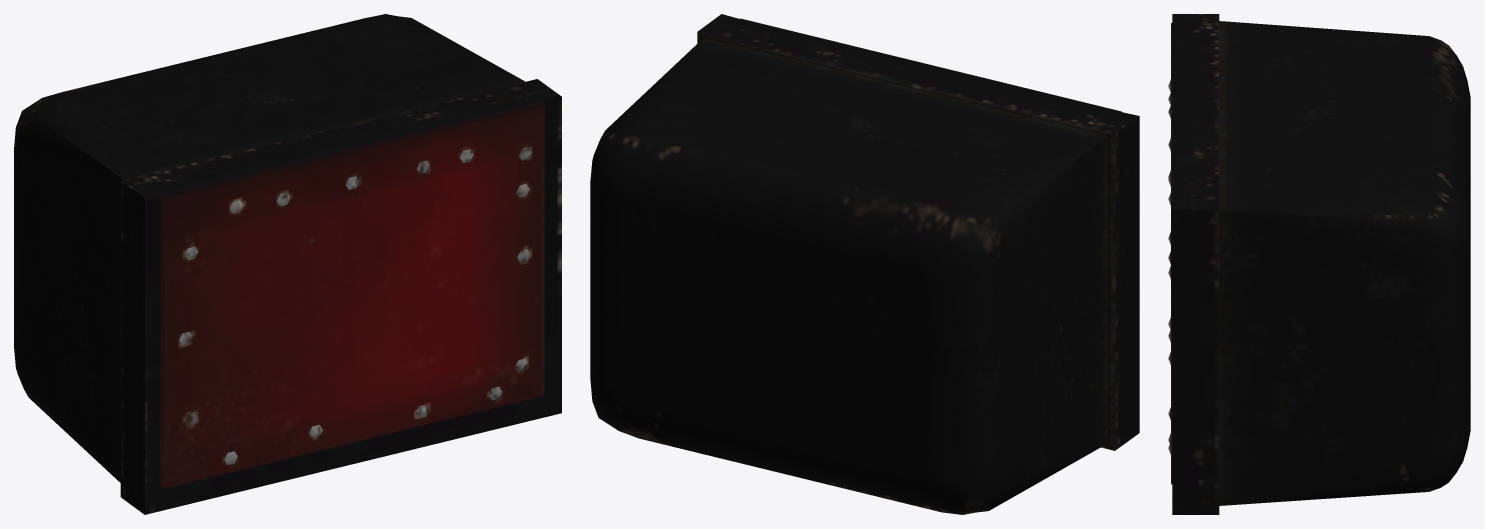
File: sm35_005_DarkRoomLight.fbx
The picture shows the model from 3 angles, left to right: view 1: azimuth 30°, elevation 25°; view 2: azimuth 150°, elevation 25°; view 3: azimuth 270°, elevation 25°; orthographic projection. The views are drawn at different scales.
Parts seen in each view (by area): view 1: LOD_1_Group_0_Sub_1__sm35_005_DarkroomLight01A_A_Mat, LOD_1_Group_1_Sub_1__sm35_005_DarkroomLight01A_A_Mat__E_8a95; view 2: LOD_1_Group_0_Sub_1__sm35_005_DarkroomLight01A_A_Mat; view 3: LOD_1_Group_0_Sub_1__sm35_005_DarkroomLight01A_A_Mat.
Part boxes in pixels (x1=…): LOD_1_Group_0_Sub_1__sm35_005_DarkroomLight01A_A_Mat: x1=14, y1=14, x2=561, y2=514; LOD_1_Group_1_Sub_1__sm35_005_DarkroomLight01A_A_Mat__E_8a95: x1=163, y1=102, x2=544, y2=487; LOD_1_Group_0_Sub_1__sm35_005_DarkroomLight01A_A_Mat: x1=590, y1=14, x2=1139, y2=514; LOD_1_Group_0_Sub_1__sm35_005_DarkroomLight01A_A_Mat: x1=1168, y1=14, x2=1470, y2=514.
Bounding box in the file's own units: 0.2907 × 0.2108 × 0.1895.
